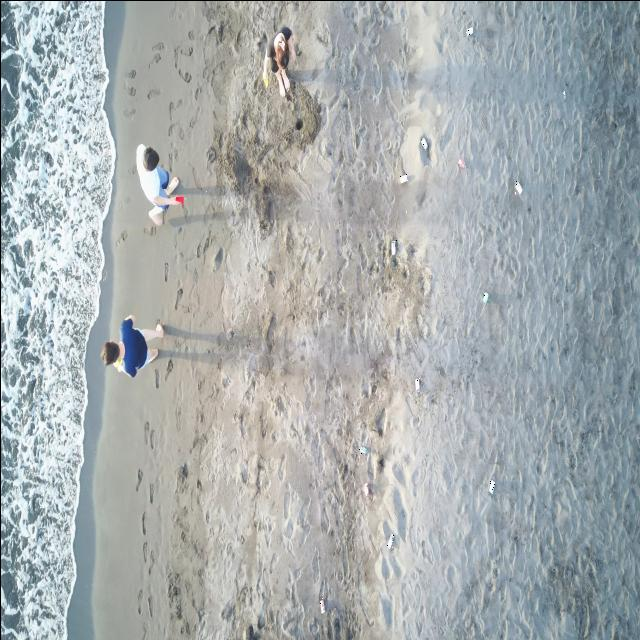Garbage: (420, 135, 430, 166), (513, 180, 522, 193), (363, 483, 371, 496), (261, 72, 267, 88), (387, 532, 393, 548), (488, 479, 495, 492), (399, 172, 407, 183), (420, 136, 427, 148), (319, 597, 324, 612), (415, 377, 420, 391), (176, 195, 183, 204), (391, 240, 395, 255), (457, 159, 464, 167), (482, 292, 487, 303), (360, 446, 368, 452), (466, 27, 472, 35), (563, 89, 564, 98)
